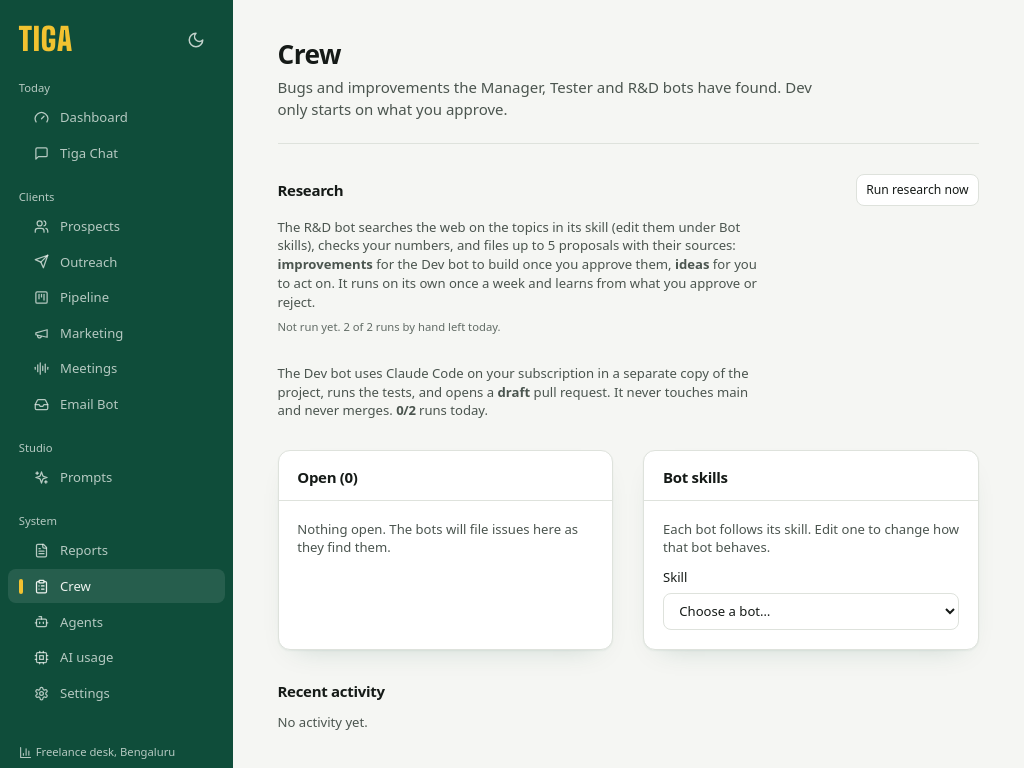
Crew › runs the R&D bot on demand
This screenshot has width=1024, height=768.
Click the button "Run research now".
click(917, 190)  # box [856, 174, 979, 206]
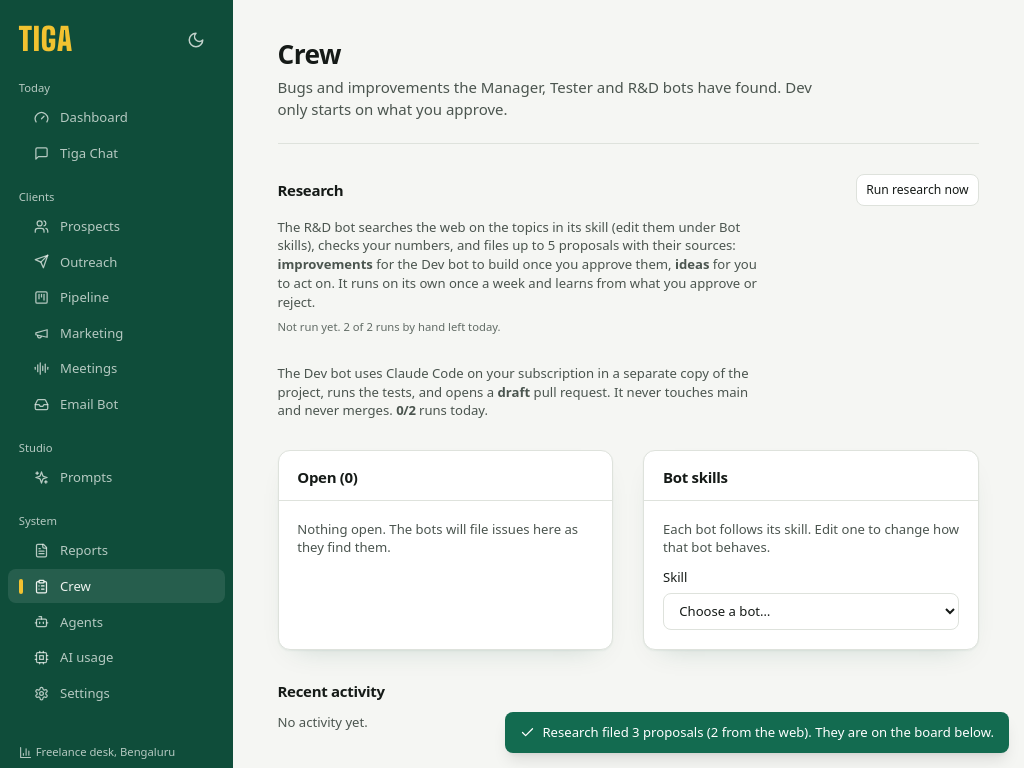
Expected: the text "Research filed 3 proposals (2 from the web). They are on the board below." is shown, [505, 712, 1009, 753]
